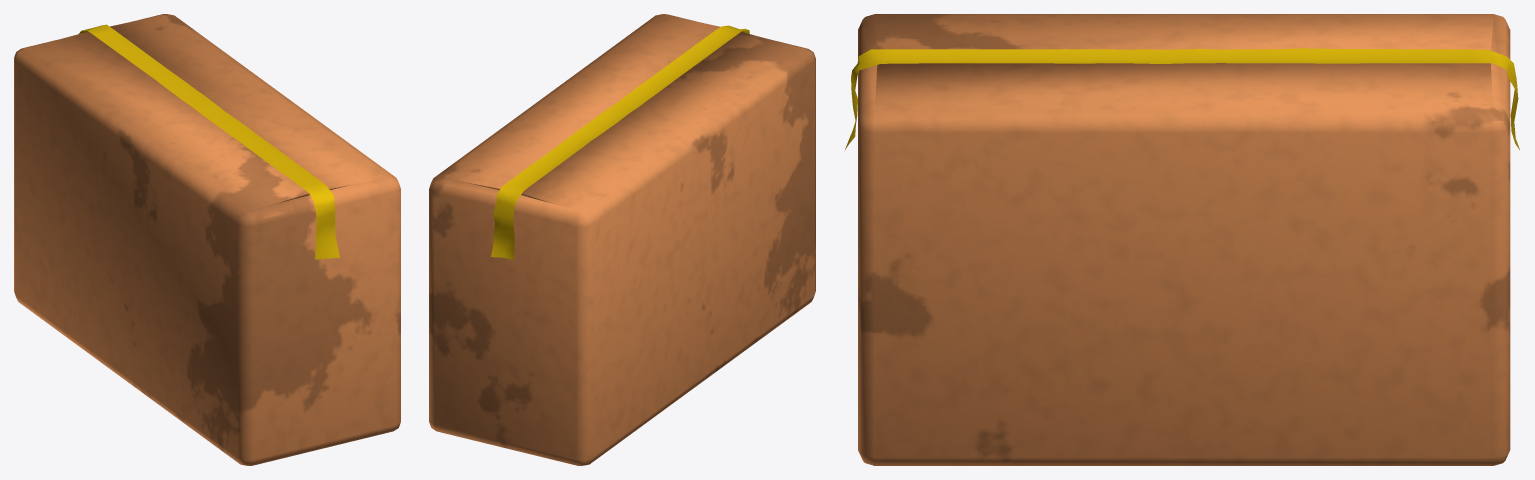
The model's file is CardboardBox(Long2).fbx.
3 views of the same model, side by side, from view 1: azimuth 30°, elevation 25°; view 2: azimuth 150°, elevation 25°; view 3: azimuth 270°, elevation 25° (orthographic). The views are drawn at different scales.
Parts seen in each view (by area): view 1: Cardboardbox.002; view 2: Cardboardbox.002; view 3: Cardboardbox.002.
Part boxes in pixels (left/top/right/bottom): Cardboardbox.002: left=14, top=14, right=400, bottom=465; Cardboardbox.002: left=429, top=14, right=815, bottom=465; Cardboardbox.002: left=845, top=14, right=1519, bottom=465.
Size of the model in its own units: 400 by 612 by 1037.
